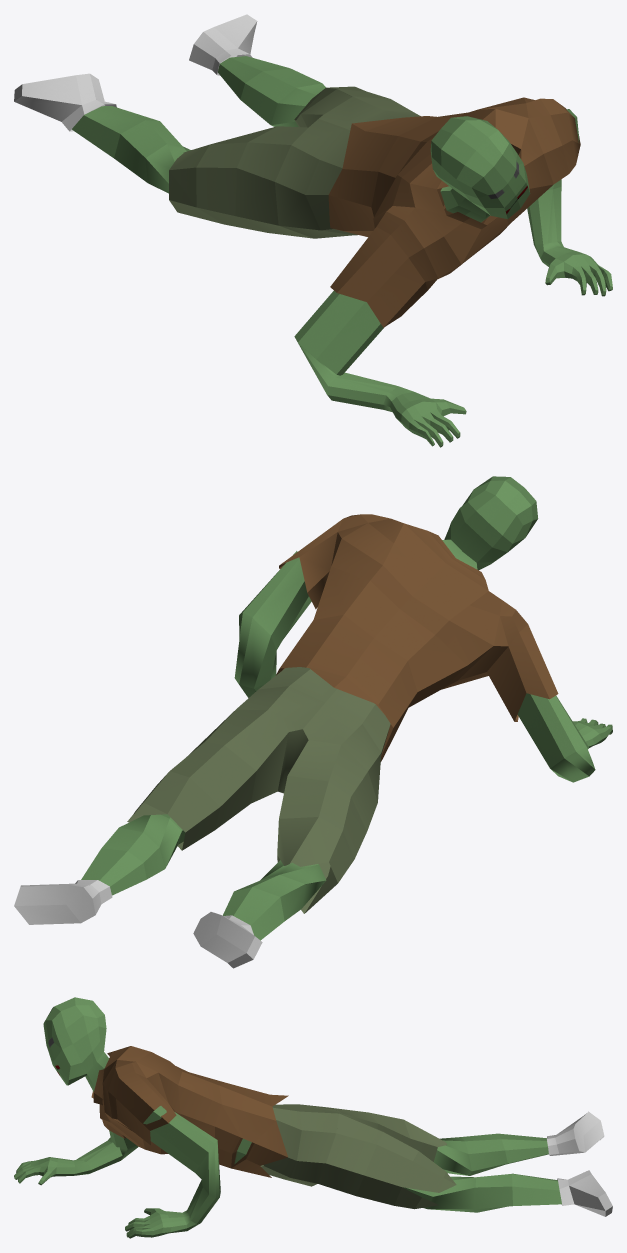
The model's file is ZombieCrawl(27).obj.
The picture shows the model from 3 angles, top to bottom: view 1: azimuth 30°, elevation 25°; view 2: azimuth 150°, elevation 25°; view 3: azimuth 270°, elevation 25°; orthographic projection. The views are drawn at different scales.
Visible parts, largest first — view 1: Object001; view 2: Object001; view 3: Object001.
Boxes of the visible parts, box(x1,y1,x2,y2) form: Object001: box(14, 14, 612, 447); Object001: box(14, 476, 612, 968); Object001: box(14, 997, 612, 1238).
Size of the model in its own units: 27.1 by 23.03 by 61.13.
